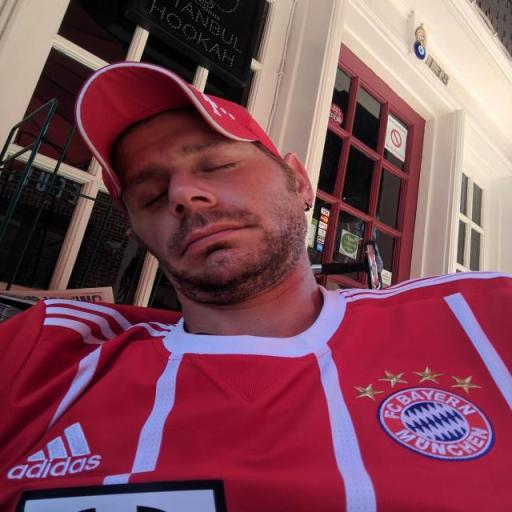Adidas: (4, 419, 104, 481)
